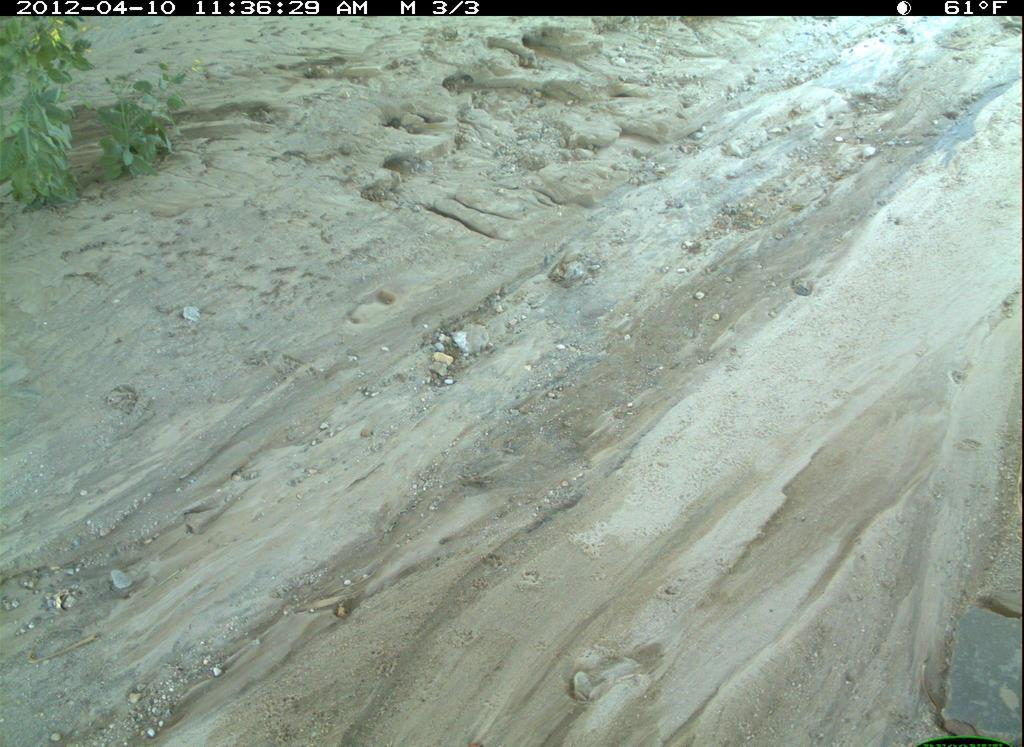bobcat: (6, 4, 1024, 747)
